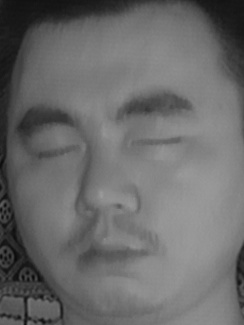blink: (133, 121, 184, 161), (35, 133, 78, 169)
mouth: (66, 227, 150, 282)
